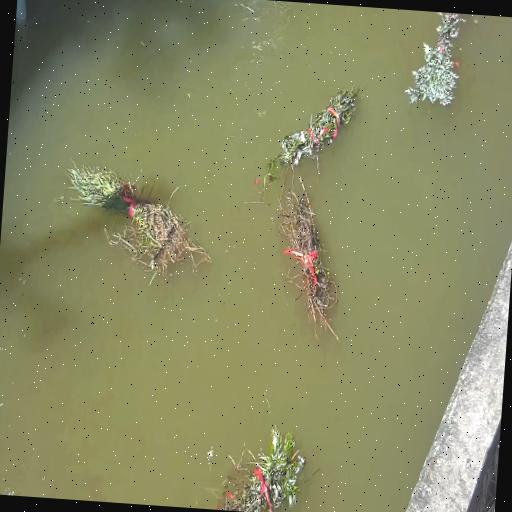twig: (65, 159, 212, 285), (279, 159, 337, 340), (266, 87, 358, 181), (213, 427, 305, 511), (406, 12, 464, 105)
